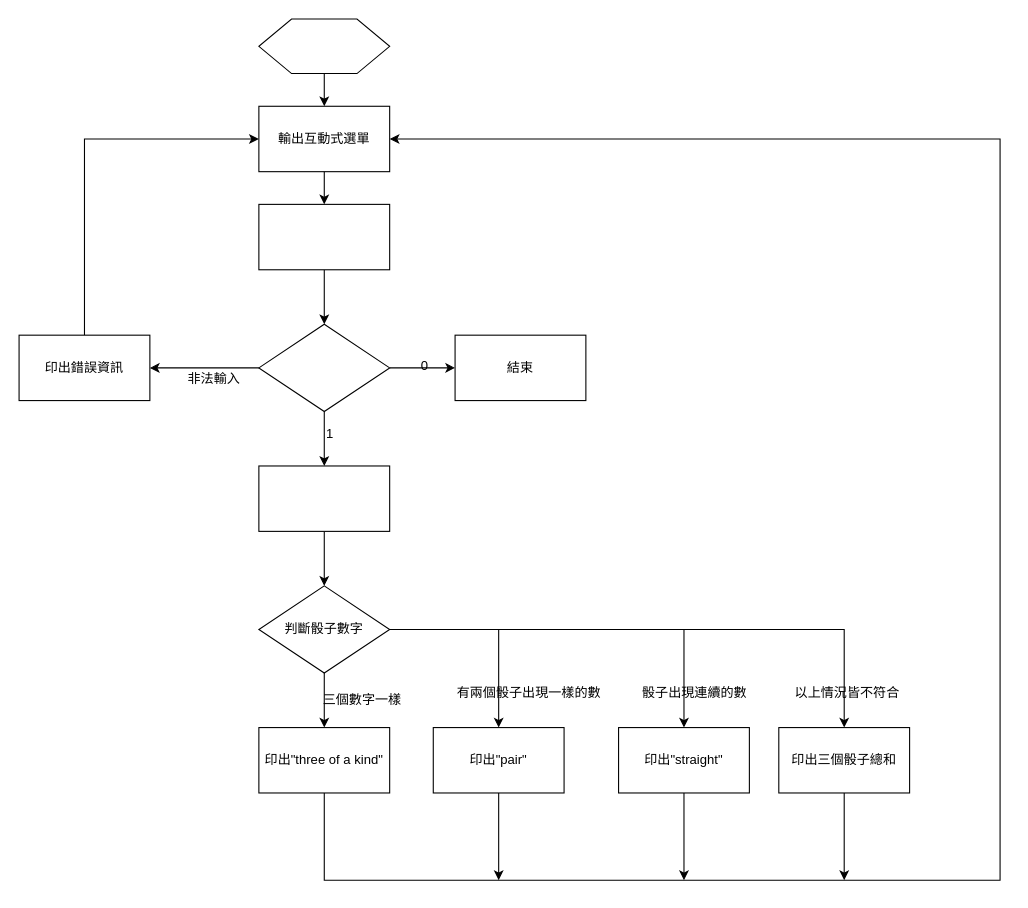
This 1028x908 diagram has some shape labels left out. The centre of each missing label's shape, as x and y in pixels:
"判斷使用者輸入指令" goes at pixel 324 367.
"擲出三個骰子 (隨機產生三個大於0小於7的整數)" goes at pixel 324 498.
"程式開始執行" goes at pixel 324 46.
"等待使用者輸入指令" goes at pixel 324 236.
